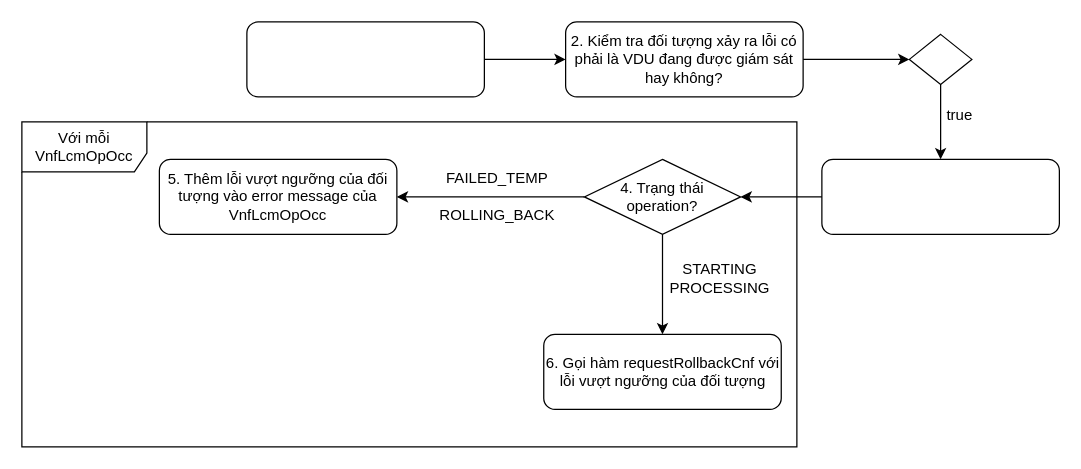
The diagram is 1081 pixels wide and 469 high, and some of its shapes have lost their labels. Each missing label, with the centre of its shape:
"1. Tìm đối tượng xảy ra lỗi" goes at [365,59].
"3. Lấy danh sách VnfLcmOpOcc tương ứng" goes at [940,196].
